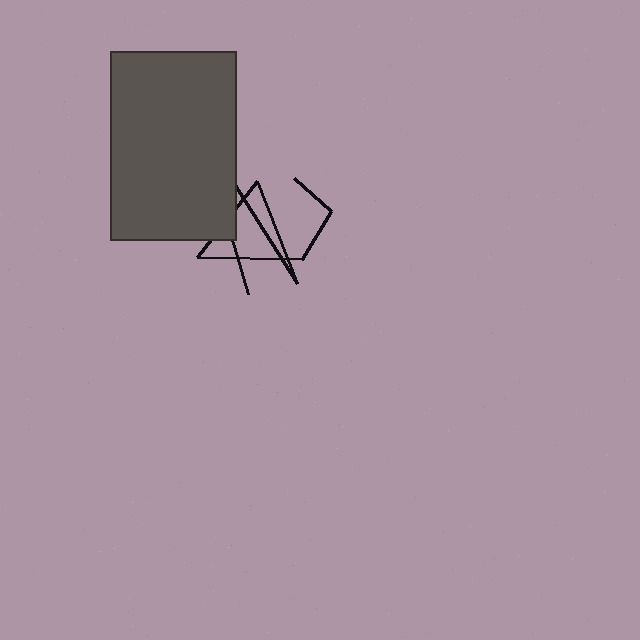concrete_damage: (110, 51, 236, 240)
crocodile_crack: (174, 129, 355, 310)
